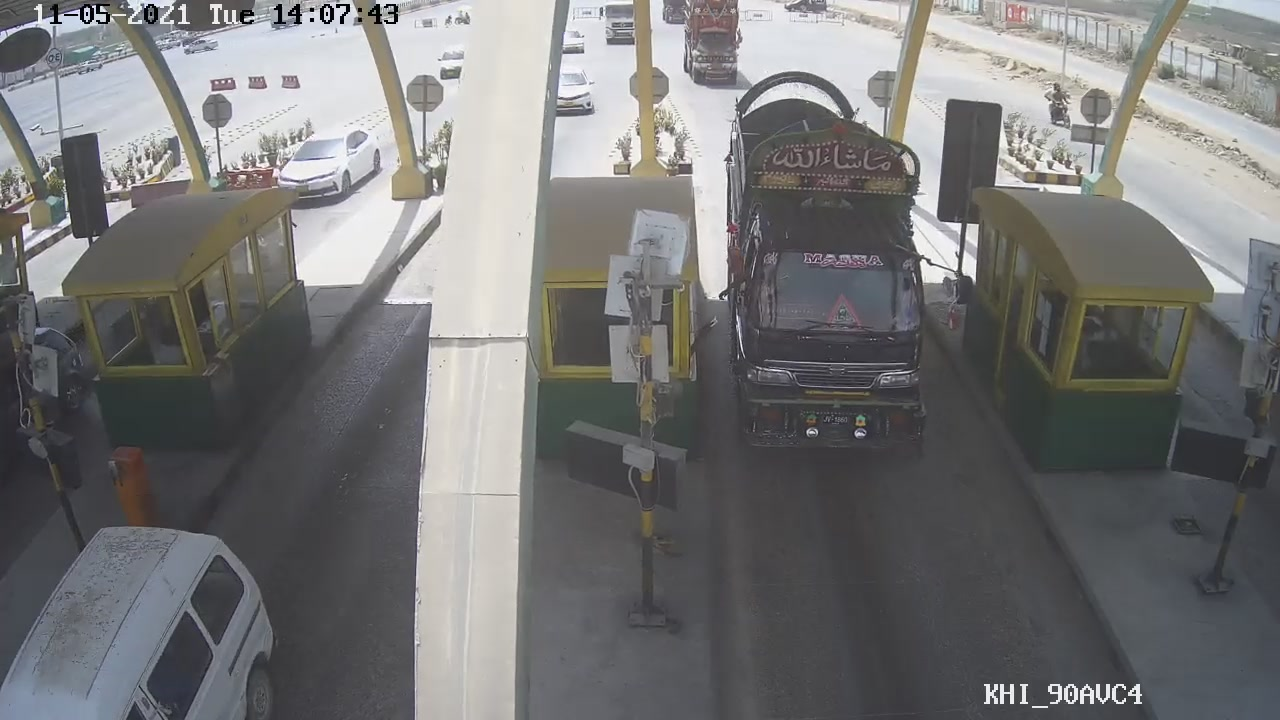F5: (718, 73, 939, 461)
